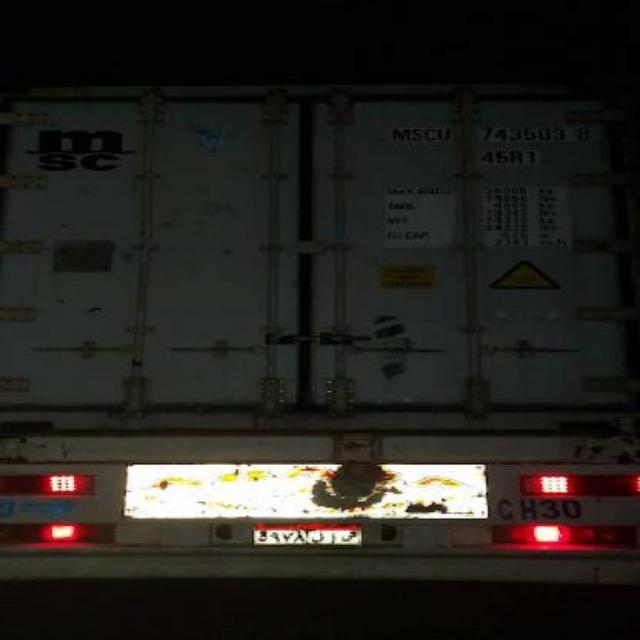0: (536, 121, 550, 142)
3: (550, 122, 568, 144), (506, 122, 522, 142)
4: (492, 123, 508, 143)
5: (522, 122, 536, 142)
7: (478, 122, 492, 142)
8: (574, 123, 596, 143)
C: (422, 126, 436, 144)
M: (388, 127, 409, 143)
S: (410, 126, 422, 144)
U: (436, 125, 449, 145)
